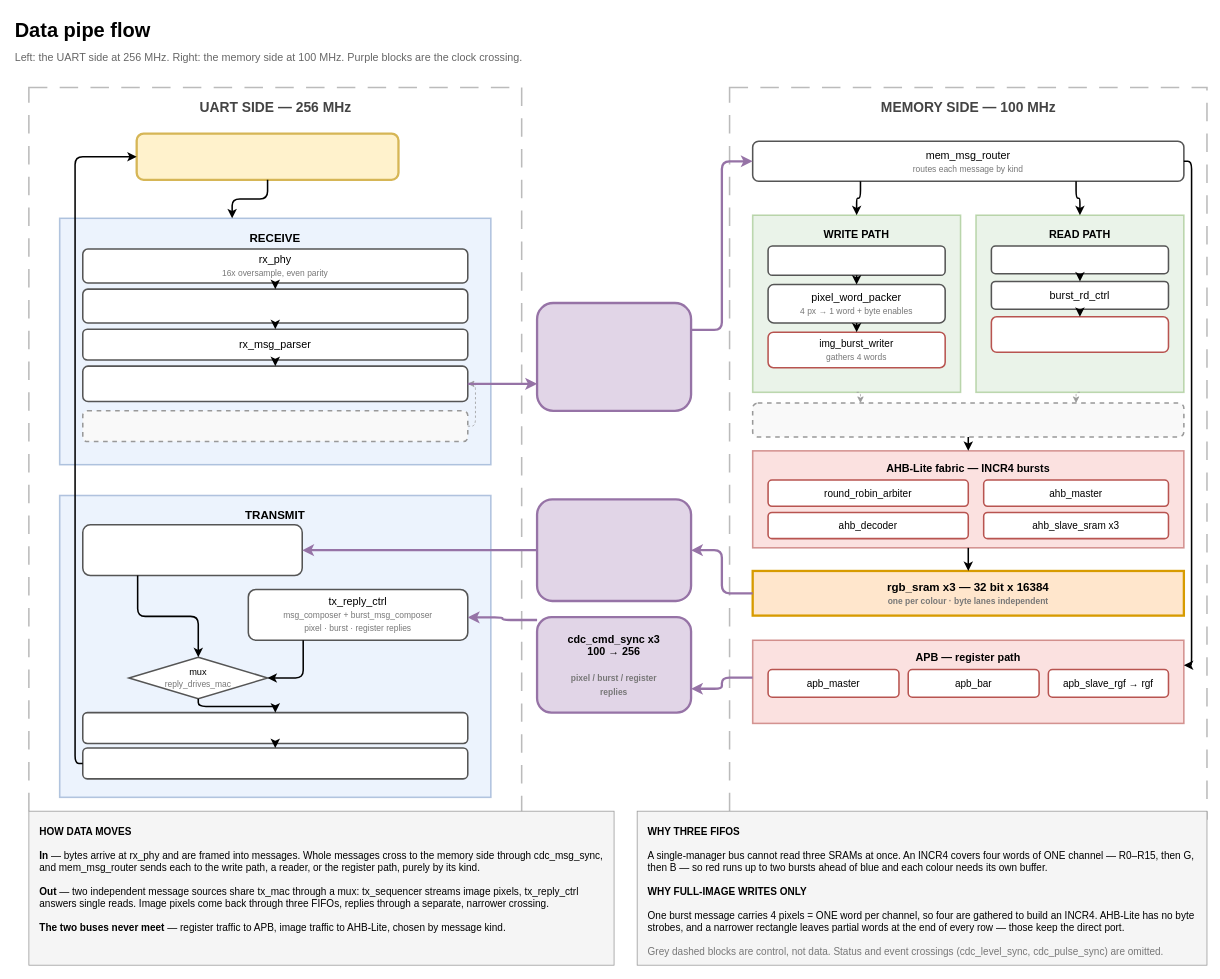
Image size: 1220x979. Some labels were removed from this diagram. Each missing label, with the centre of its shape:
"async_fifo x3 100 → 256 R / G / B pixel words 32 bit x 16 each" goes at point 614,550.
"cdc_msg_sync 256 → 100 whole messages in ordered, back-pressured" goes at point 614,356.
"img_burst_reader INCR4 R→G→B" goes at point 1079,334.
"mem_interlock one owner at a time — reads and writes are mutually exclusive" goes at point 968,419.
"mem_msg_writer" goes at point 856,260.
"PC (host) 8 Mbaud · even parity · RTS/CTS" goes at point 267,156.
"pixel_rd_ctrl" goes at point 1079,259.
"rx_burst_ctrl — bypass_active" goes at point 275,426.
"rx_classifier range checks · critical path" goes at point 275,383.
"rx_mac frames of 6 / 11 / 16 B" goes at point 275,305.
"tx_mac" goes at point 275,727.
"tx_phy" goes at point 275,763.
"tx_sequencer pops one word from each FIFO unpacks 4 pixels" goes at point 192,550.
